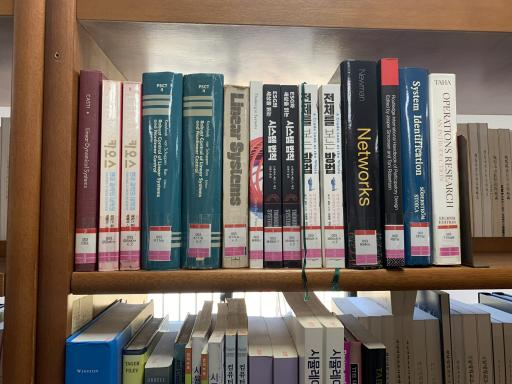book-spine: (344, 60, 384, 270), (182, 73, 223, 269), (143, 72, 182, 271), (400, 68, 433, 264), (431, 74, 461, 264), (76, 70, 100, 271), (382, 58, 404, 266), (224, 85, 248, 267), (299, 84, 322, 268), (322, 84, 345, 267), (99, 80, 121, 270), (120, 82, 140, 270), (281, 85, 301, 268), (264, 85, 282, 268), (250, 81, 263, 268)
